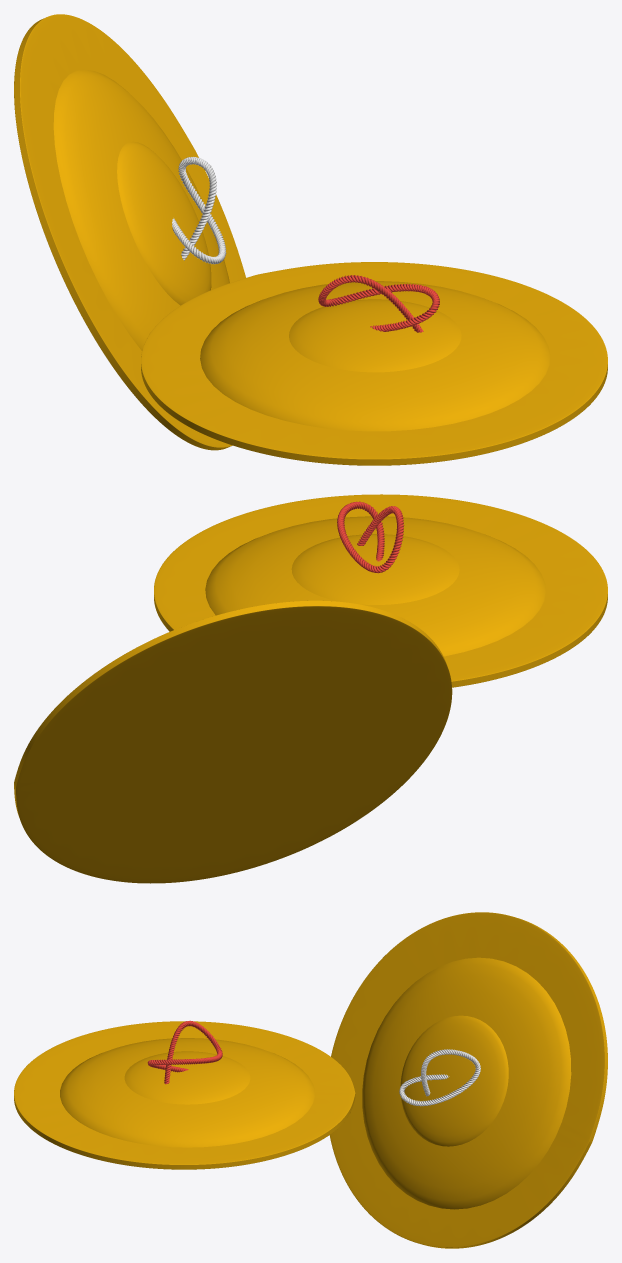
Rendered from Ceng-Ceng.fbx.
3 renders of one model, top to bottom at view 1: azimuth 30°, elevation 25°; view 2: azimuth 150°, elevation 25°; view 3: azimuth 270°, elevation 25°, orthographic. The views are drawn at different scales.
Parts seen in each view (by area): view 1: Cylinder.002, Sphere.003, Cylinder, Sphere, Sphere.004, Sphere.002, Circle.003, Circle; view 2: Cylinder, Cylinder.002, Sphere.003, Sphere.004, Circle.003; view 3: Cylinder, Sphere, Cylinder.002, Sphere.003, Sphere.002, Sphere.004, Circle, Circle.003.
Part boxes in pixels (x1,y1,x2,y2): Cylinder.002: [141, 262, 607, 465]; Sphere.003: [200, 281, 550, 431]; Cylinder: [14, 14, 245, 450]; Sphere: [53, 69, 229, 350]; Sphere.004: [289, 299, 461, 372]; Sphere.002: [117, 141, 211, 305]; Circle.003: [318, 275, 439, 332]; Circle: [172, 156, 226, 264]; Cylinder: [14, 600, 452, 883]; Cylinder.002: [154, 494, 607, 687]; Sphere.003: [205, 516, 545, 656]; Sphere.004: [291, 534, 459, 604]; Circle.003: [337, 501, 404, 573]; Cylinder: [329, 912, 607, 1248]; Sphere: [362, 957, 571, 1209]; Cylinder.002: [14, 1021, 355, 1169]; Sphere.003: [60, 1038, 314, 1147]; Sphere.002: [400, 1015, 508, 1146]; Sphere.004: [124, 1051, 250, 1104]; Circle: [399, 1049, 480, 1106]; Circle.003: [147, 1020, 222, 1084].
Size of the model in its own units: 143 by 126 by 250.
